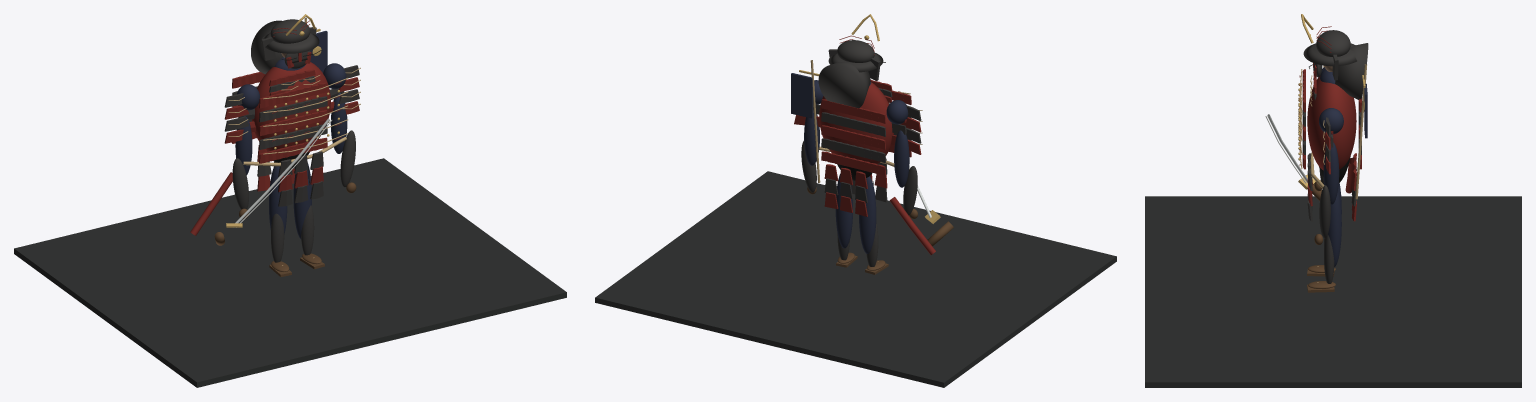
File: actor-takeda-04.glb
The picture shows the model from 3 angles, left to right: view 1: azimuth 30°, elevation 25°; view 2: azimuth 150°, elevation 25°; view 3: azimuth 270°, elevation 25°; orthographic projection. The views are drawn at different scales.
Visible parts, largest first — view 1: matte charcoal inspection plinth, rounded do cuirass silhouette, rear shikoro neck guard flare, segmented kabuto helmet bowl, right armored upper arm, right kote forearm guard, left kote forearm guard, wide kabuto brim, left hakama trouser leg, right hakama trouser leg, left armored upper arm, left shin greave (+2 smaller); view 2: matte charcoal inspection plinth, rear shikoro neck guard flare, rounded do cuirass silhouette, cloth sashimono banner panel, left hakama trouser leg, left armored upper arm, segmented kabuto helmet bowl, right hakama trouser leg, right armored upper arm, left kote forearm guard, lacquered saya scabbard at left hip, right kote forearm guard; view 3: matte charcoal inspection plinth, rounded do cuirass silhouette, rear shikoro neck guard flare, segmented kabuto helmet bowl, right hakama trouser leg, wide kabuto brim, right armored upper arm, right kote forearm guard, right shoulder undercloth, right shin greave, bamboo sashimono back pole.
Boxes of the visible parts, box(x1,y1,x2,y2) form: matte charcoal inspection plinth: box(14, 158, 566, 387); rounded do cuirass silhouette: box(252, 62, 330, 151); rear shikoro neck guard flare: box(251, 20, 283, 74); segmented kabuto helmet bowl: box(270, 19, 310, 43); right armored upper arm: box(330, 93, 347, 153); right kote forearm guard: box(340, 130, 355, 187); left kote forearm guard: box(232, 158, 248, 209); wide kabuto brim: box(261, 33, 319, 53); left hakama trouser leg: box(269, 166, 287, 234); right hakama trouser leg: box(293, 163, 311, 239); left armored upper arm: box(235, 116, 252, 175); left shin greave: box(271, 213, 284, 262); matte charcoal inspection plinth: box(595, 171, 1116, 387); rear shikoro neck guard flare: box(818, 61, 870, 108); rounded do cuirass silhouette: box(819, 82, 893, 164); cloth sashimono banner panel: box(791, 73, 813, 118); left hakama trouser leg: box(859, 176, 876, 253); left armored upper arm: box(894, 130, 909, 187); segmented kabuto helmet bowl: box(837, 40, 874, 62); right hakama trouser leg: box(835, 173, 852, 248); right armored upper arm: box(804, 110, 819, 165); left kote forearm guard: box(903, 166, 917, 215); lacquered saya scabbard at left hip: box(889, 197, 935, 254); right kote forearm guard: box(801, 140, 816, 192); matte charcoal inspection plinth: box(1145, 196, 1521, 387); rounded do cuirass silhouette: box(1307, 76, 1356, 170); rear shikoro neck guard flare: box(1335, 43, 1368, 99); segmented kabuto helmet bowl: box(1316, 30, 1350, 56); right hakama trouser leg: box(1328, 189, 1341, 267); wide kabuto brim: box(1303, 43, 1356, 66); right armored upper arm: box(1323, 142, 1339, 204); right kote forearm guard: box(1319, 185, 1330, 238); right shoulder undercloth: box(1319, 108, 1343, 134); right shin greave: box(1324, 235, 1334, 283); bamboo sashimono back pole: box(1355, 64, 1366, 199).
Bounding box in the file's own units: 4.2 × 2.96 × 3.6.
